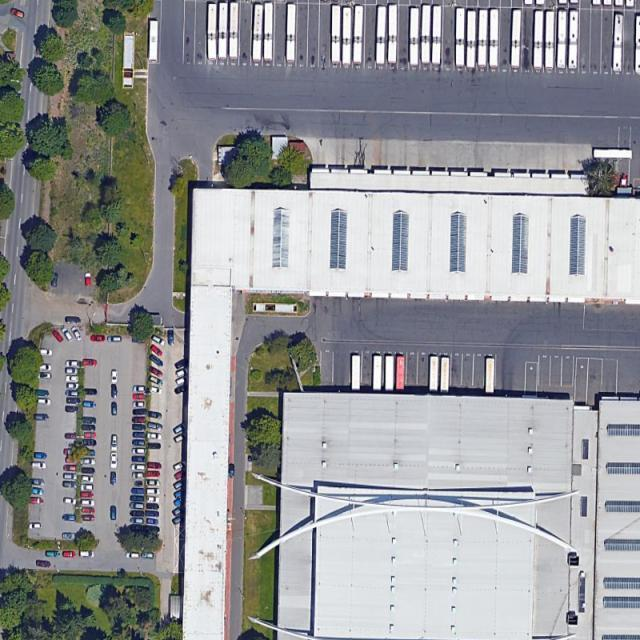vehicle: (612, 14, 625, 73), (252, 3, 264, 63), (478, 9, 490, 67), (217, 2, 229, 60), (387, 3, 398, 64), (511, 8, 522, 69), (342, 6, 353, 66), (432, 6, 443, 66), (455, 7, 466, 67), (353, 5, 364, 64), (286, 3, 297, 62), (207, 4, 218, 62), (331, 5, 341, 65), (534, 10, 544, 70), (558, 9, 568, 69), (264, 2, 274, 62), (545, 10, 555, 70), (376, 6, 386, 65), (569, 10, 579, 69), (466, 10, 476, 68), (489, 9, 499, 67), (422, 4, 431, 65), (410, 7, 419, 66), (230, 3, 239, 60), (594, 147, 634, 159), (395, 355, 406, 394), (484, 357, 495, 396), (429, 355, 439, 395), (351, 354, 361, 393), (385, 355, 395, 394), (149, 20, 158, 62), (373, 354, 382, 394), (634, 15, 640, 74), (441, 357, 450, 395), (148, 342, 164, 358), (149, 353, 165, 369), (146, 374, 164, 388), (150, 334, 167, 348), (60, 326, 74, 343), (147, 366, 165, 379), (172, 422, 187, 436), (174, 357, 190, 370), (173, 431, 189, 444), (172, 460, 188, 473), (172, 505, 187, 518), (173, 478, 188, 491), (72, 325, 83, 342), (52, 330, 65, 344), (174, 486, 188, 499), (175, 375, 190, 387), (171, 514, 186, 526), (174, 367, 190, 378), (147, 410, 163, 421), (146, 421, 163, 431), (80, 415, 97, 425), (62, 480, 79, 490), (110, 434, 119, 452), (130, 462, 146, 472), (174, 496, 187, 508), (110, 451, 118, 470), (174, 385, 189, 395), (65, 404, 80, 414), (34, 451, 49, 461), (166, 330, 175, 346), (82, 358, 98, 367), (66, 359, 82, 368), (35, 560, 51, 569), (146, 432, 162, 441), (33, 413, 49, 422), (66, 397, 82, 406), (130, 494, 146, 503), (80, 549, 96, 558), (174, 470, 186, 482), (28, 487, 44, 496), (62, 497, 78, 506), (79, 498, 95, 507), (79, 458, 96, 466), (44, 550, 61, 558), (28, 478, 45, 486), (84, 273, 93, 288), (10, 8, 23, 18), (65, 316, 81, 324), (110, 383, 118, 399), (34, 390, 50, 398), (36, 398, 52, 406), (146, 462, 162, 470), (110, 369, 119, 383), (91, 334, 106, 342), (38, 363, 53, 371), (146, 442, 161, 450), (82, 424, 97, 432), (66, 390, 81, 398), (82, 401, 97, 409), (130, 502, 145, 510), (62, 514, 77, 522), (62, 550, 77, 558), (146, 479, 161, 487), (110, 506, 118, 521), (81, 484, 94, 493), (38, 349, 54, 356), (132, 416, 146, 424), (80, 475, 94, 483), (133, 386, 147, 394), (110, 470, 117, 486), (147, 496, 161, 504), (28, 522, 42, 530), (126, 551, 140, 559), (62, 473, 78, 480), (134, 439, 146, 448), (108, 336, 123, 343), (228, 464, 235, 479), (132, 393, 147, 400), (80, 491, 95, 498), (66, 374, 79, 382), (50, 273, 58, 286), (149, 386, 162, 394), (80, 389, 97, 395), (65, 367, 79, 374), (66, 383, 80, 390), (32, 462, 46, 469), (132, 425, 146, 432), (83, 439, 97, 446), (111, 402, 118, 416), (133, 408, 147, 415), (132, 455, 146, 462), (131, 510, 145, 517), (146, 503, 160, 510), (146, 511, 160, 518), (82, 514, 96, 521), (147, 471, 161, 478), (64, 465, 78, 472), (30, 497, 44, 504), (146, 488, 160, 495), (38, 372, 50, 380), (142, 552, 154, 560), (147, 518, 159, 526), (133, 448, 146, 455), (133, 431, 146, 438), (82, 507, 95, 514), (81, 450, 95, 456), (85, 432, 97, 439), (82, 467, 94, 474), (132, 518, 144, 525), (62, 534, 76, 540), (134, 472, 146, 479), (64, 449, 77, 455), (131, 488, 144, 494), (66, 457, 78, 463), (66, 433, 78, 439), (134, 402, 146, 408), (626, 1, 634, 8), (558, 1, 569, 6), (536, 1, 546, 6), (592, 1, 602, 6), (524, 1, 534, 6), (614, 1, 624, 6), (603, 1, 612, 6), (570, 1, 580, 5), (276, 1, 286, 2), (320, 1, 330, 2)
